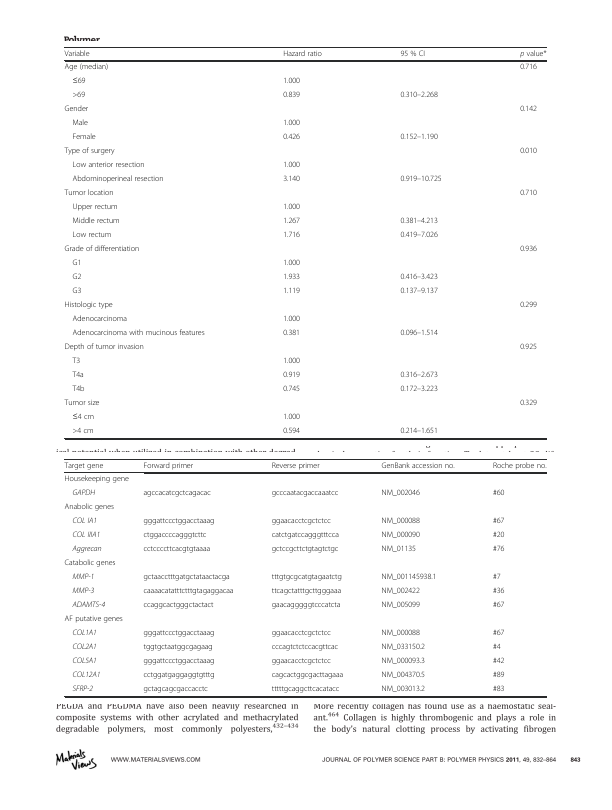borderless: (63, 46, 546, 438), (63, 457, 546, 696)
cell: (71, 329, 205, 339), (71, 175, 164, 185), (142, 586, 234, 596), (142, 572, 231, 582), (63, 343, 145, 353), (63, 245, 140, 255), (71, 161, 145, 171), (142, 516, 215, 526), (142, 628, 215, 638), (142, 656, 215, 666), (142, 670, 215, 680), (271, 670, 344, 680), (271, 572, 343, 582), (142, 600, 214, 610), (142, 642, 214, 652), (271, 586, 342, 596), (142, 488, 212, 498), (271, 600, 341, 610), (271, 530, 340, 540), (142, 544, 211, 554), (271, 684, 340, 694), (271, 488, 339, 498), (271, 544, 339, 554), (271, 642, 339, 652), (381, 461, 456, 470), (142, 684, 209, 694), (64, 474, 130, 484), (142, 530, 207, 540), (271, 516, 332, 526), (63, 614, 124, 624), (271, 628, 332, 638), (271, 656, 332, 666), (71, 315, 128, 325), (381, 572, 437, 582), (64, 558, 116, 568), (64, 147, 115, 157), (63, 301, 114, 311), (64, 502, 115, 512), (64, 189, 114, 199), (71, 217, 121, 227), (492, 461, 547, 470), (71, 203, 118, 213), (142, 461, 194, 470), (64, 63, 109, 73), (381, 642, 426, 652), (381, 656, 426, 666), (381, 670, 426, 680), (381, 684, 426, 694), (271, 461, 320, 470), (399, 175, 442, 185), (71, 231, 112, 241), (399, 91, 439, 101), (399, 133, 439, 143), (399, 217, 439, 227), (399, 231, 439, 241), (399, 273, 439, 283), (399, 287, 439, 297), (399, 329, 439, 339), (399, 371, 439, 381), (399, 385, 439, 395), (399, 427, 439, 437), (381, 488, 421, 498), (381, 516, 421, 526), (381, 530, 421, 540), (381, 586, 421, 596), (381, 600, 421, 610), (381, 628, 421, 638), (63, 399, 100, 409), (282, 50, 323, 59), (64, 461, 104, 470), (381, 544, 417, 554), (71, 600, 106, 609), (71, 544, 102, 554), (71, 530, 101, 540), (71, 516, 98, 526), (71, 670, 101, 679), (71, 133, 97, 143), (519, 50, 547, 59), (64, 105, 89, 115), (71, 488, 96, 498), (399, 50, 426, 59), (71, 628, 98, 637), (71, 642, 98, 651), (71, 656, 98, 665), (71, 413, 95, 423), (64, 50, 90, 59), (71, 427, 94, 437), (71, 572, 95, 581), (71, 586, 95, 595), (71, 684, 94, 693), (519, 63, 538, 73), (282, 77, 301, 87), (282, 91, 301, 101), (519, 105, 538, 115), (282, 119, 301, 129), (282, 133, 301, 143), (519, 147, 538, 157), (282, 161, 301, 171), (282, 175, 301, 185), (519, 189, 538, 199), (282, 203, 301, 213), (282, 217, 301, 227), (282, 231, 301, 241), (519, 245, 538, 255), (282, 259, 301, 269), (282, 273, 301, 283), (282, 287, 301, 297), (519, 301, 538, 311), (282, 315, 301, 325), (282, 329, 301, 339), (519, 343, 538, 353), (282, 357, 301, 367), (282, 371, 301, 381), (282, 385, 301, 395), (519, 399, 538, 409), (282, 413, 301, 423), (282, 427, 301, 437), (71, 119, 89, 129), (71, 77, 86, 87), (71, 91, 86, 101), (71, 371, 85, 381), (71, 385, 85, 395), (492, 488, 505, 498), (492, 516, 505, 526), (492, 530, 505, 540), (492, 544, 505, 554), (492, 586, 505, 596), (492, 600, 505, 610), (492, 628, 505, 638), (492, 656, 505, 666), (492, 670, 505, 680), (492, 684, 505, 694), (71, 259, 82, 269), (71, 273, 82, 283), (71, 287, 82, 297), (71, 357, 81, 367), (492, 572, 501, 582), (492, 642, 501, 652)
